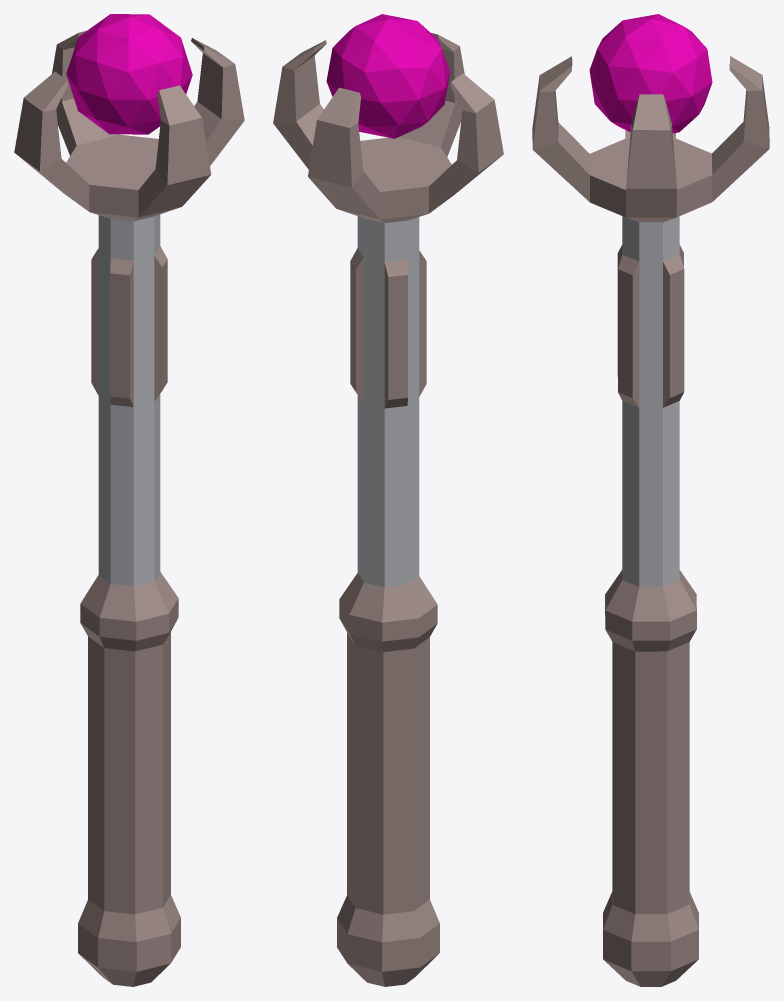
The model's file is OrbWand.fbx.
3 views of the same model, side by side, from view 1: azimuth 30°, elevation 25°; view 2: azimuth 150°, elevation 25°; view 3: azimuth 270°, elevation 25° (orthographic).
Visible parts, largest first — view 1: OrbWand; view 2: OrbWand; view 3: OrbWand.
Part boxes in pixels (x1,y1,x2,y2): OrbWand: (14, 14, 244, 986); OrbWand: (273, 14, 503, 986); OrbWand: (532, 14, 769, 986).
Bounding box in the file's own units: 3.02 × 13.43 × 3.02.
